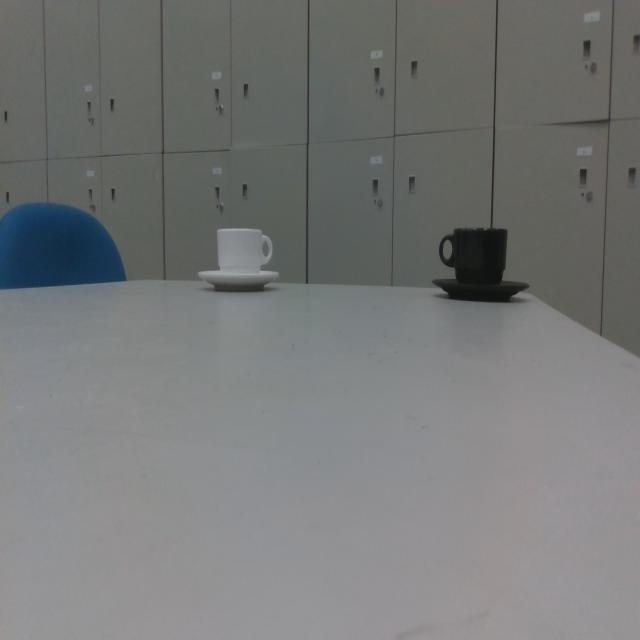black: (430, 223, 530, 304)
white: (196, 224, 280, 294)
